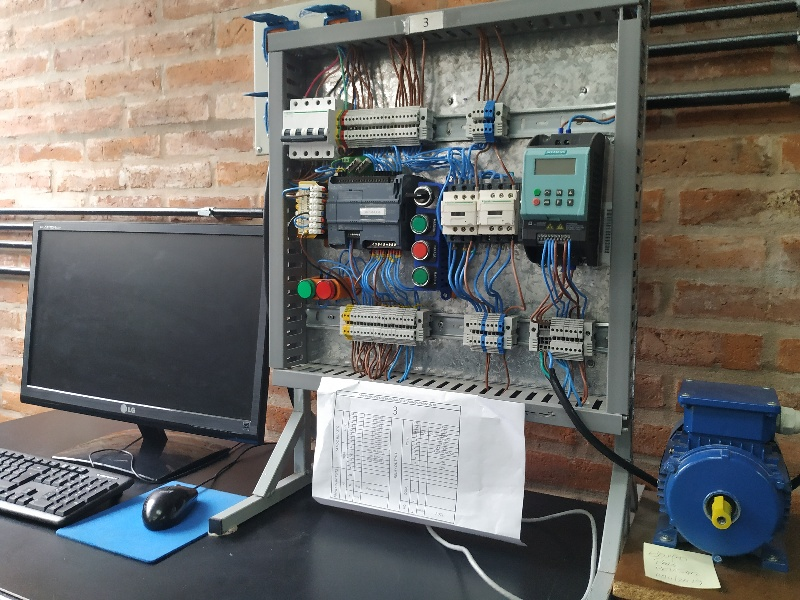Tablero 3: (277, 19, 623, 404)
